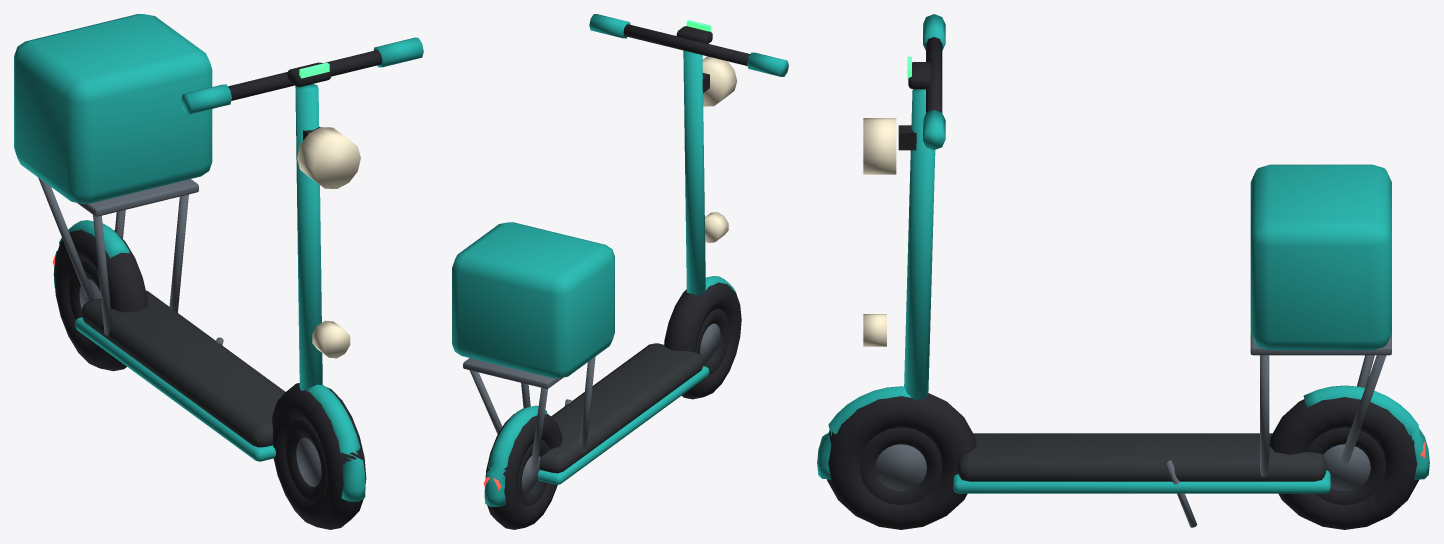
File: scooter.gltf
The picture shows the model from 3 angles, left to right: view 1: azimuth 30°, elevation 25°; view 2: azimuth 150°, elevation 25°; view 3: azimuth 270°, elevation 25°; orthographic projection. The views are drawn at different scales.
Parts seen in each view (by area): view 1: ACC_rack, scooter_frame, STEER_mesh.001, ACC_wide_tires, ACC_headlight, WHEEL_front_mesh.001, WHEEL_rear_mesh.001; view 2: ACC_rack, scooter_frame, STEER_mesh.001, ACC_wide_tires, WHEEL_front_mesh.001, ACC_headlight, WHEEL_rear_mesh.001; view 3: ACC_rack, scooter_frame, ACC_wide_tires, STEER_mesh.001, WHEEL_front_mesh.001, WHEEL_rear_mesh.001, ACC_headlight.
Boxes of the visible parts, x1=… form: ACC_rack: x1=14, y1=14, x2=212, y2=335; scooter_frame: x1=52, y1=220, x2=285, y2=461; STEER_mesh.001: x1=181, y1=37, x2=423, y2=501; ACC_wide_tires: x1=54, y1=229, x2=366, y2=529; ACC_headlight: x1=297, y1=127, x2=360, y2=188; WHEEL_front_mesh.001: x1=285, y1=419, x2=326, y2=500; WHEEL_rear_mesh.001: x1=69, y1=261, x2=100, y2=340; ACC_rack: x1=452, y1=222, x2=614, y2=470; scooter_frame: x1=483, y1=343, x2=709, y2=506; STEER_mesh.001: x1=589, y1=14, x2=788, y2=295; ACC_wide_tires: x1=485, y1=282, x2=741, y2=529; WHEEL_front_mesh.001: x1=696, y1=308, x2=729, y2=374; ACC_headlight: x1=702, y1=56, x2=737, y2=106; WHEEL_rear_mesh.001: x1=517, y1=439, x2=549, y2=505; ACC_rack: x1=1250, y1=164, x2=1391, y2=476; scooter_frame: x1=953, y1=385, x2=1429, y2=527; ACC_wide_tires: x1=827, y1=393, x2=1418, y2=529; STEER_mesh.001: x1=817, y1=14, x2=945, y2=479; WHEEL_front_mesh.001: x1=859, y1=427, x2=942, y2=504; WHEEL_rear_mesh.001: x1=1306, y1=427, x2=1386, y2=504; ACC_headlight: x1=863, y1=118, x2=916, y2=174.
Size of what is drawn, in the model's own units: 0.58 by 1.09 by 1.3.
